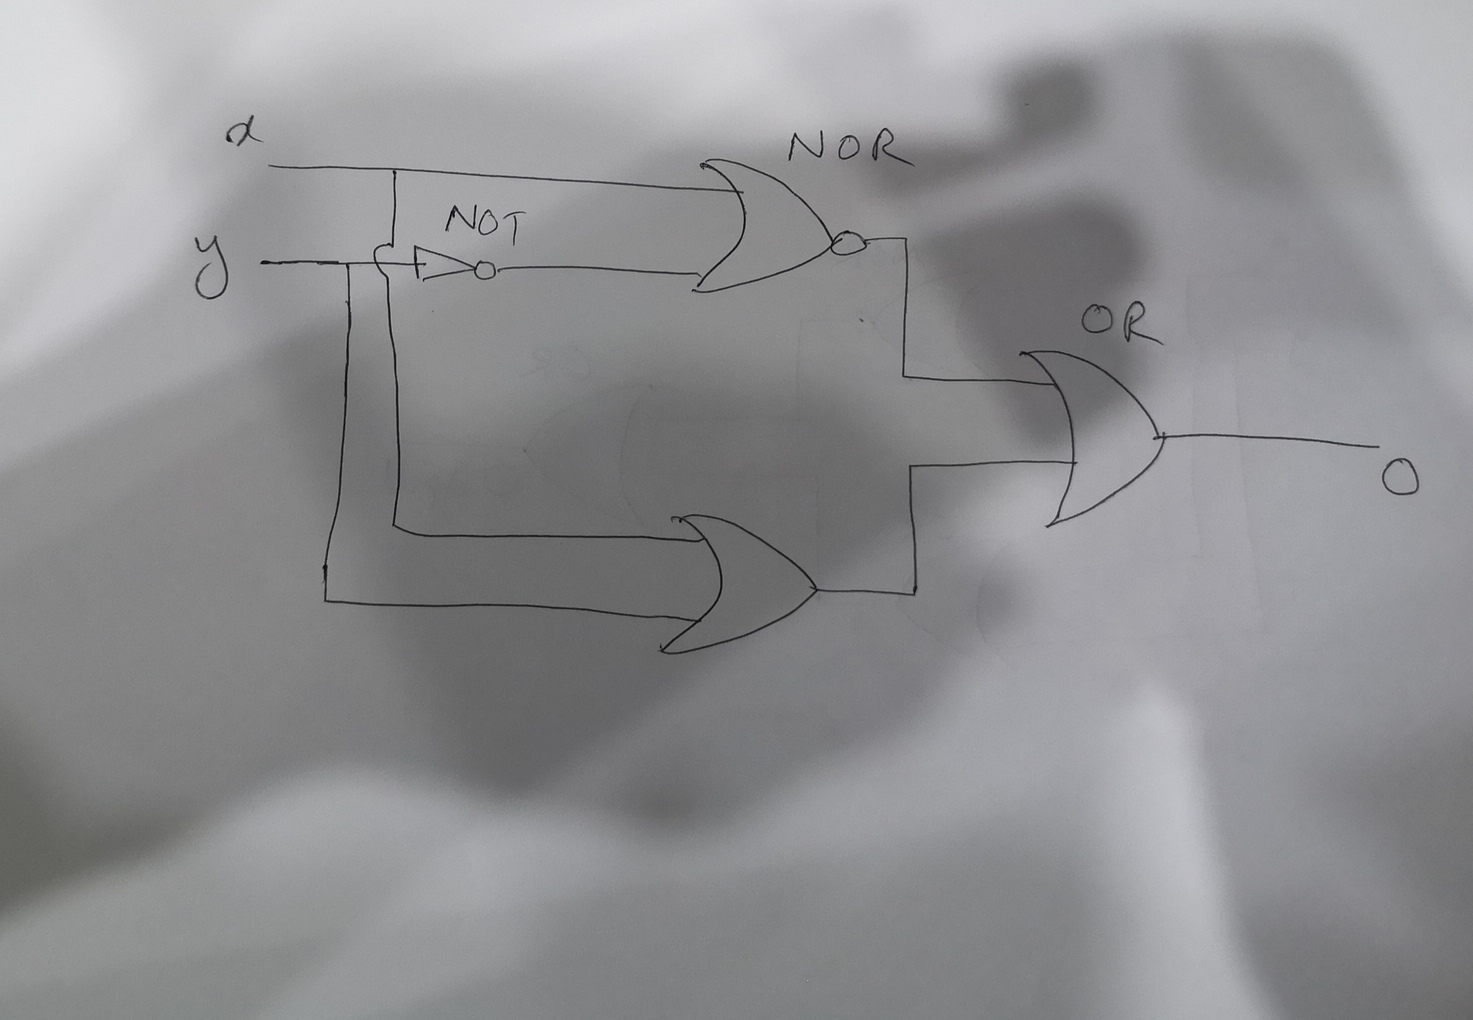crossover: (369, 238, 400, 282)
junction: (901, 580, 927, 603), (893, 366, 914, 385), (895, 230, 916, 246), (901, 458, 920, 475), (316, 592, 334, 609), (386, 517, 403, 535), (337, 255, 354, 271), (387, 163, 402, 177)
nor: (686, 151, 876, 298)
not: (410, 242, 501, 286)
or: (1014, 345, 1176, 531), (653, 504, 831, 662)
terminal: (253, 252, 282, 273), (1370, 438, 1385, 453), (261, 159, 276, 172)
text: (781, 123, 914, 174), (1078, 297, 1166, 346), (437, 202, 527, 247), (191, 232, 232, 303), (1379, 453, 1422, 497), (222, 112, 263, 148)
